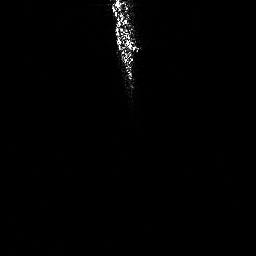ship: (107, 1, 142, 103)
